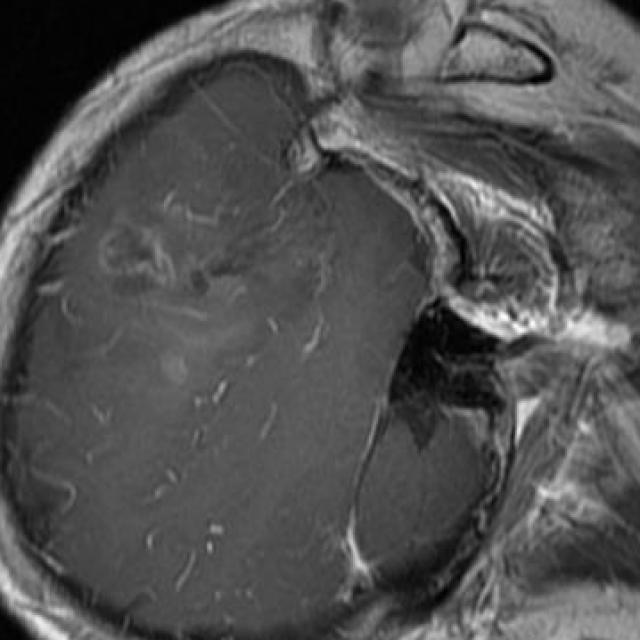glioma: (98, 198, 324, 408)
